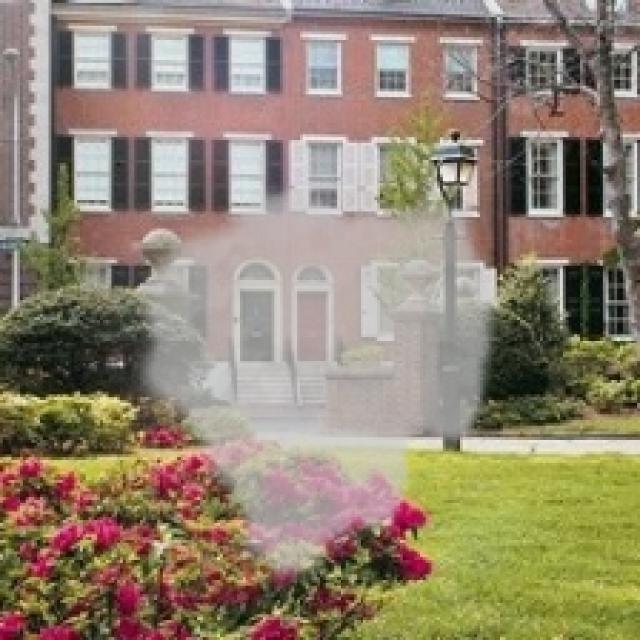smoke: (126, 183, 503, 591)
